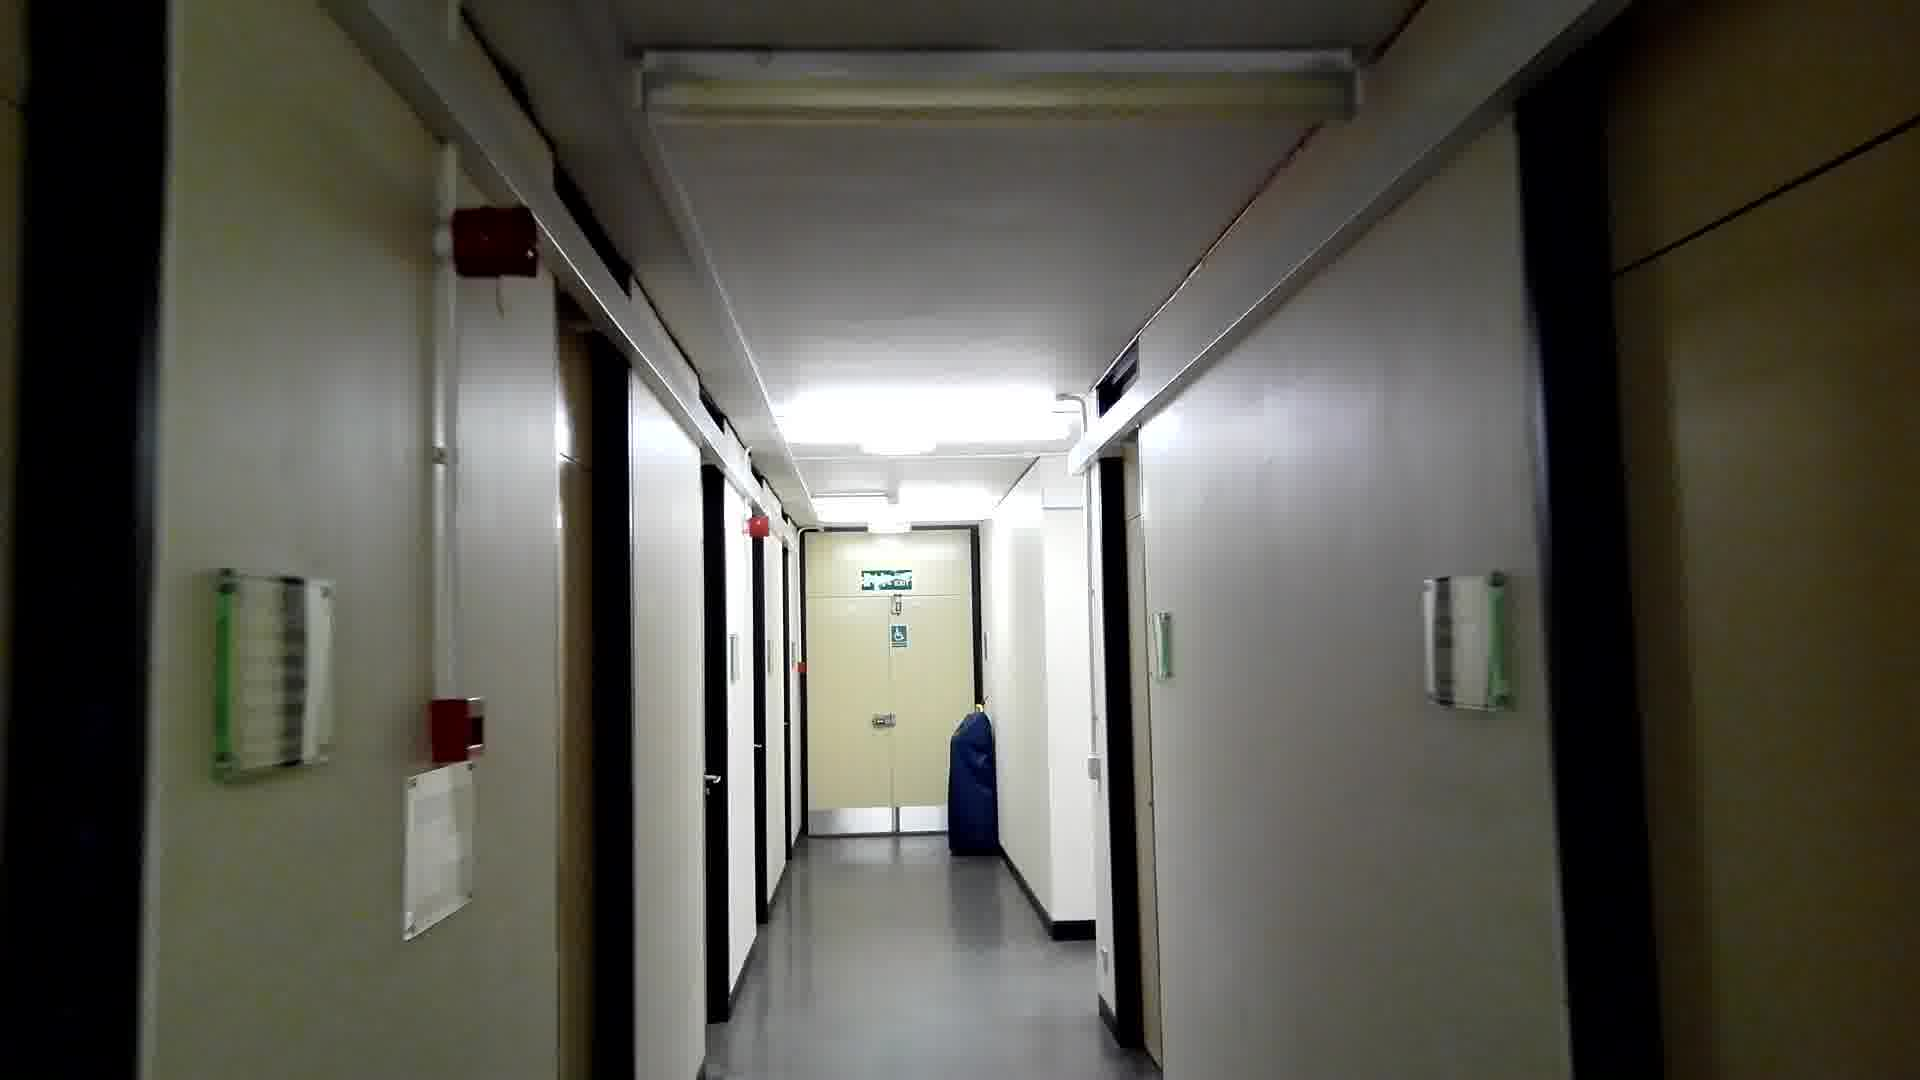Bin: (945, 709, 1006, 865)
Door: (545, 144, 655, 1080)
